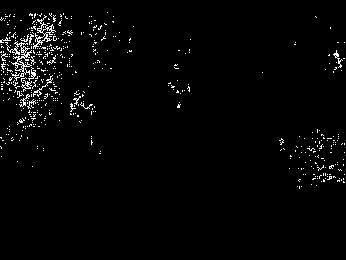person: (69, 88, 98, 147), (169, 64, 189, 111)
